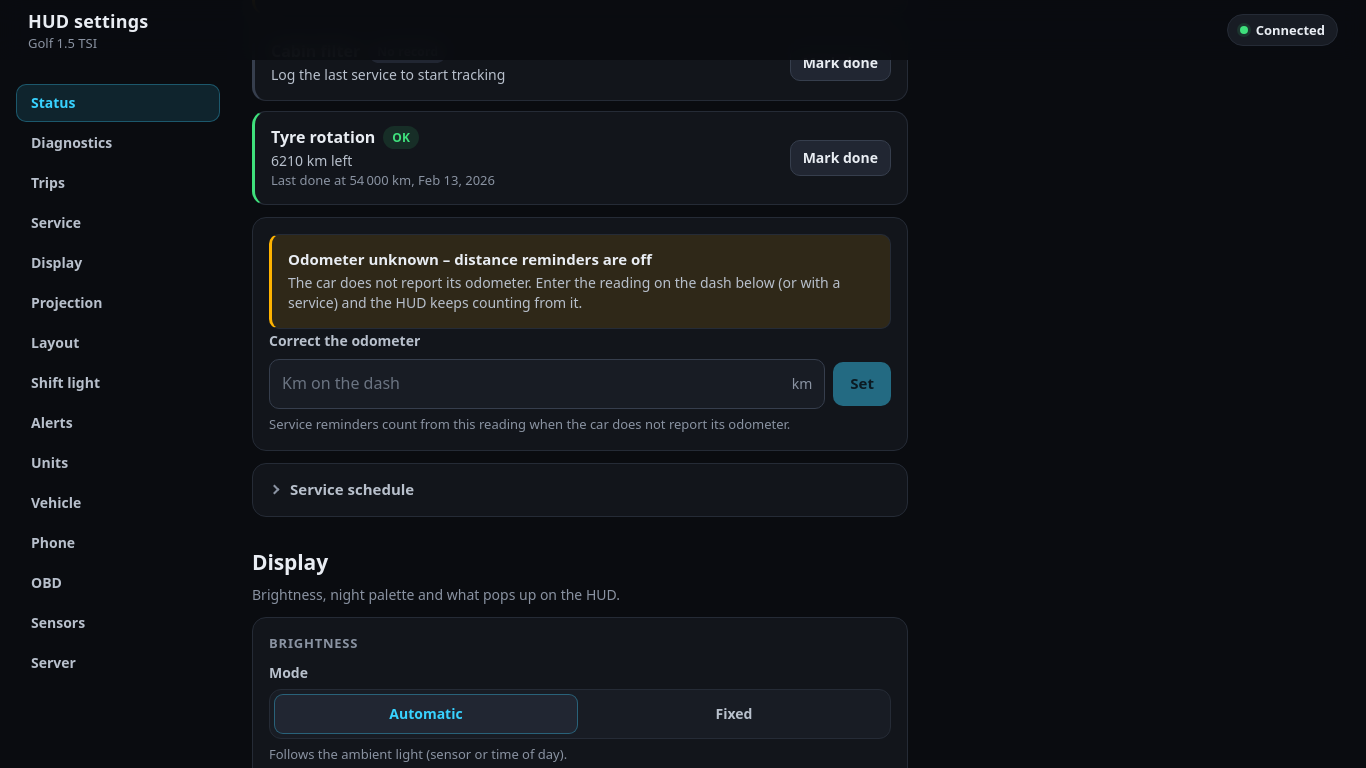
Test: settings app › says where the HUD odometer comes from and asks for the dash reading when needed
The width and height of the screenshot is (1366, 768).
Expected: the element that starts with "Mode" is shown, x1=269 y1=663 x2=891 y2=764
Type "58100" into the field with id "set-odometer" at point(529, 384), box x1=270 y1=360 x2=788 y2=408
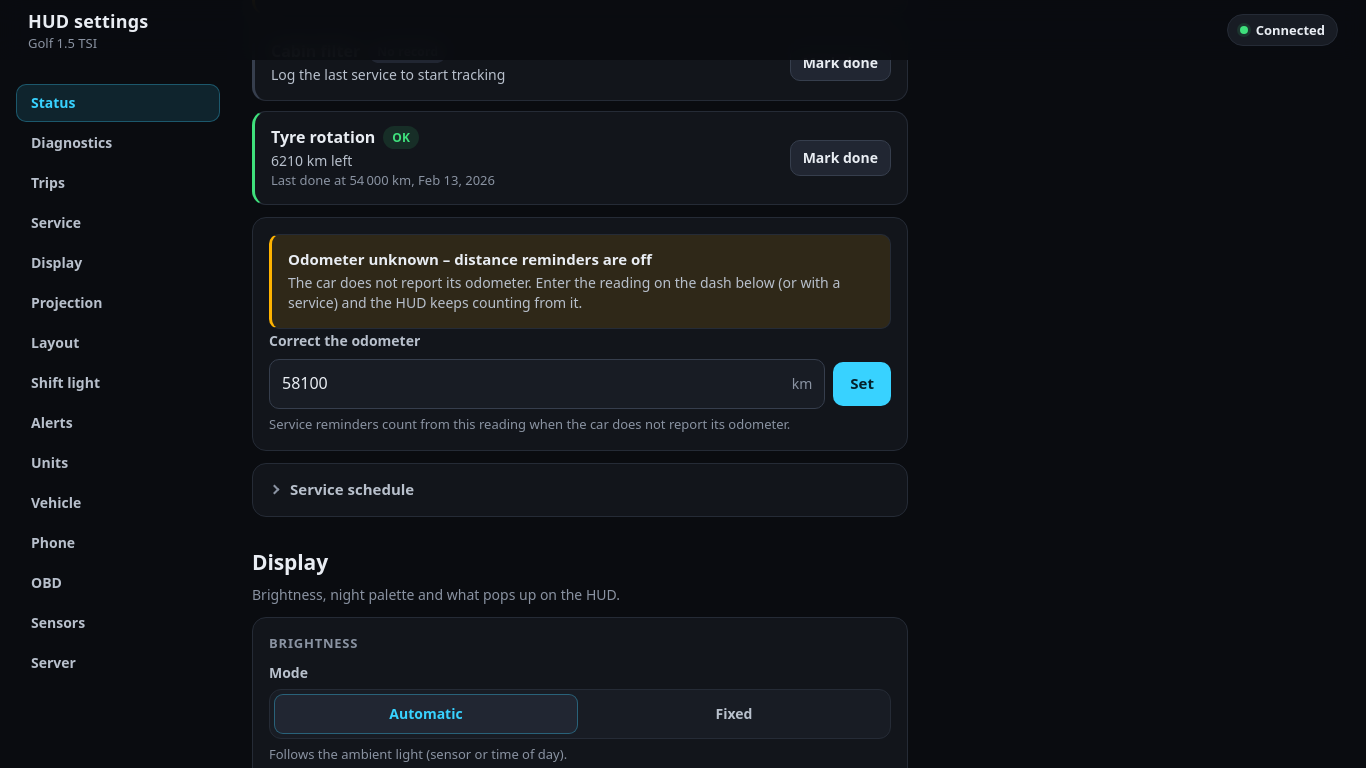
Click the button "Set" at point(862, 384), box x1=833 y1=362 x2=891 y2=406
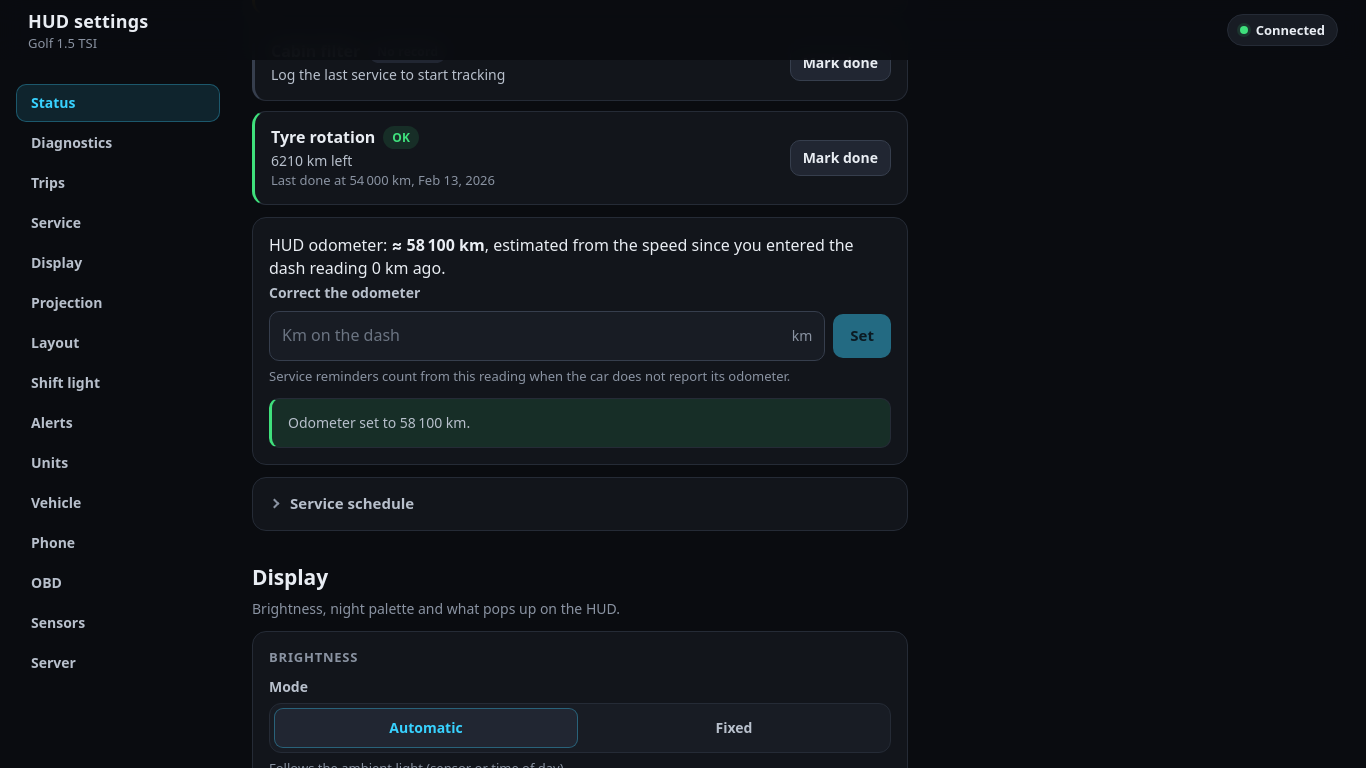
Now the element with class "odometer-status" is shown, box x1=269 y1=234 x2=891 y2=281
